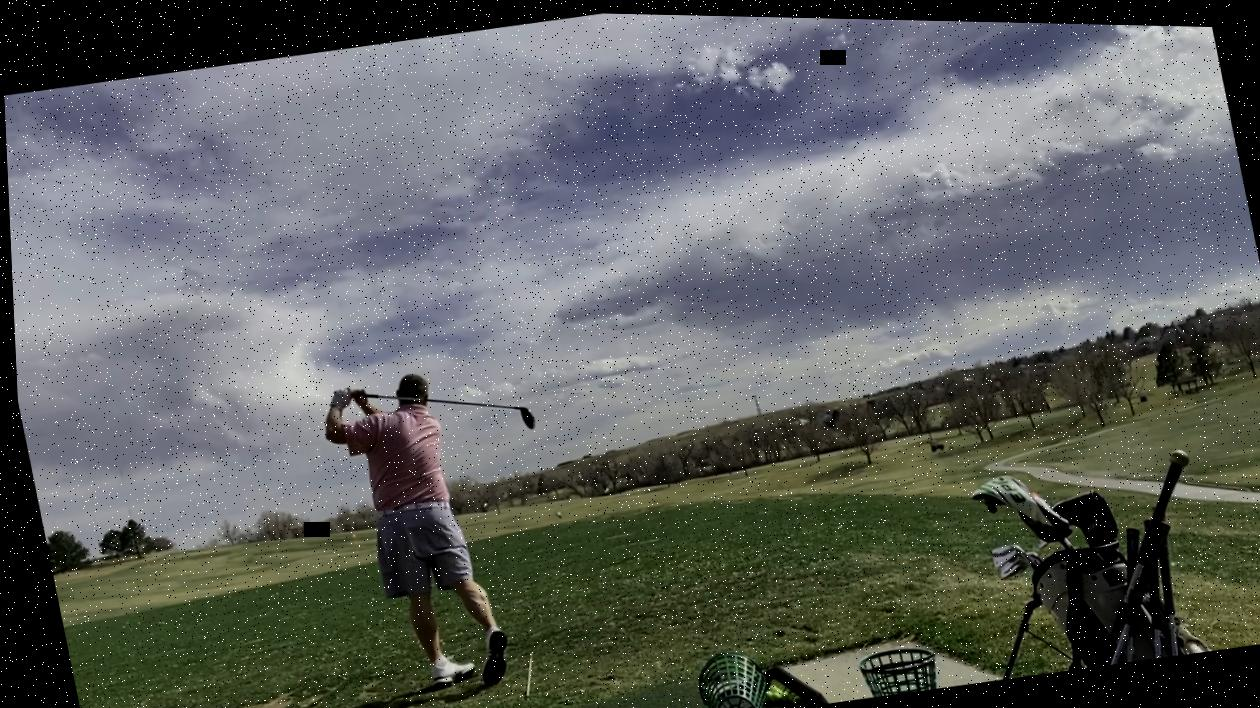ClubHead: (506, 393, 545, 435)
